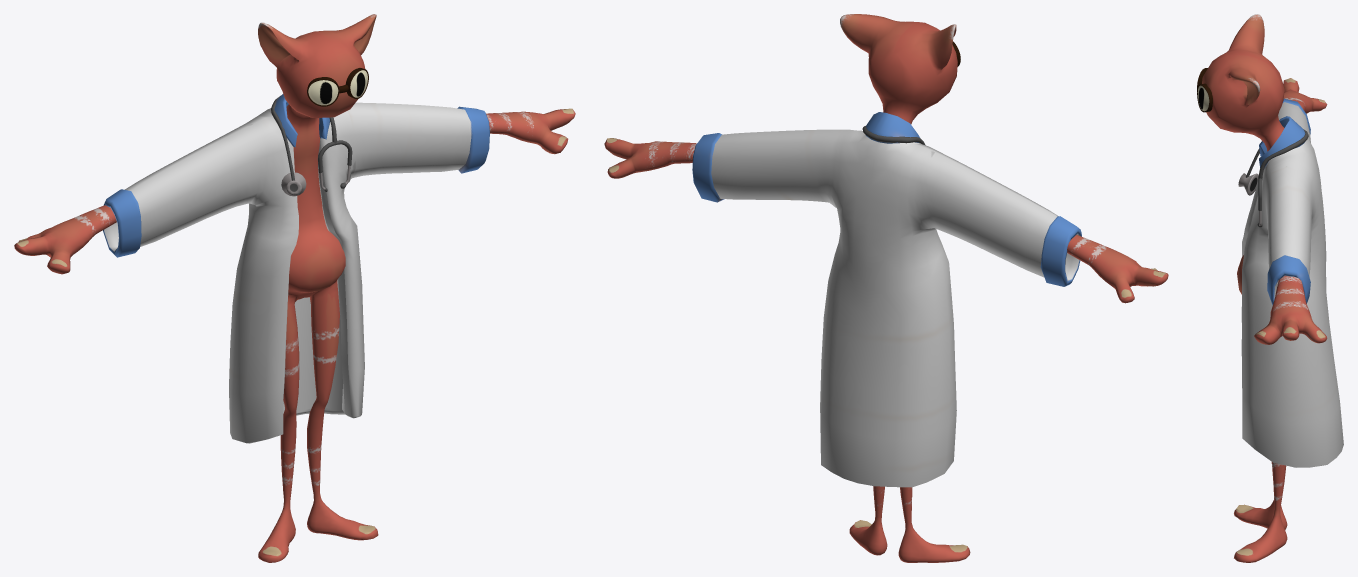
Rendered from doctor-alien.glb.
3 views of the same model, side by side, from view 1: azimuth 30°, elevation 25°; view 2: azimuth 150°, elevation 25°; view 3: azimuth 270°, elevation 25° (orthographic). The views are drawn at different scales.
Visible parts, largest first — view 1: LabCoat, Body, DoctorThingy, Glasses; view 2: LabCoat, Body; view 3: LabCoat, Body, DoctorThingy, Glasses.
Part boxes in pixels (x1=…): LabCoat: x1=103, y1=94, x2=489, y2=443; Body: x1=14, y1=14, x2=575, y2=562; DoctorThingy: x1=271, y1=95, x2=352, y2=196; Glasses: x1=307, y1=68, x2=368, y2=106; LabCoat: x1=692, y1=112, x2=1081, y2=487; Body: x1=604, y1=14, x2=1168, y2=562; LabCoat: x1=1241, y1=98, x2=1343, y2=467; Body: x1=1202, y1=14, x2=1327, y2=562; DoctorThingy: x1=1238, y1=129, x2=1308, y2=227; Glasses: x1=1197, y1=68, x2=1212, y2=112.
Bounding box in the file's own units: 2.49 × 2.27 × 0.6038.
1 material, 1 textured.
